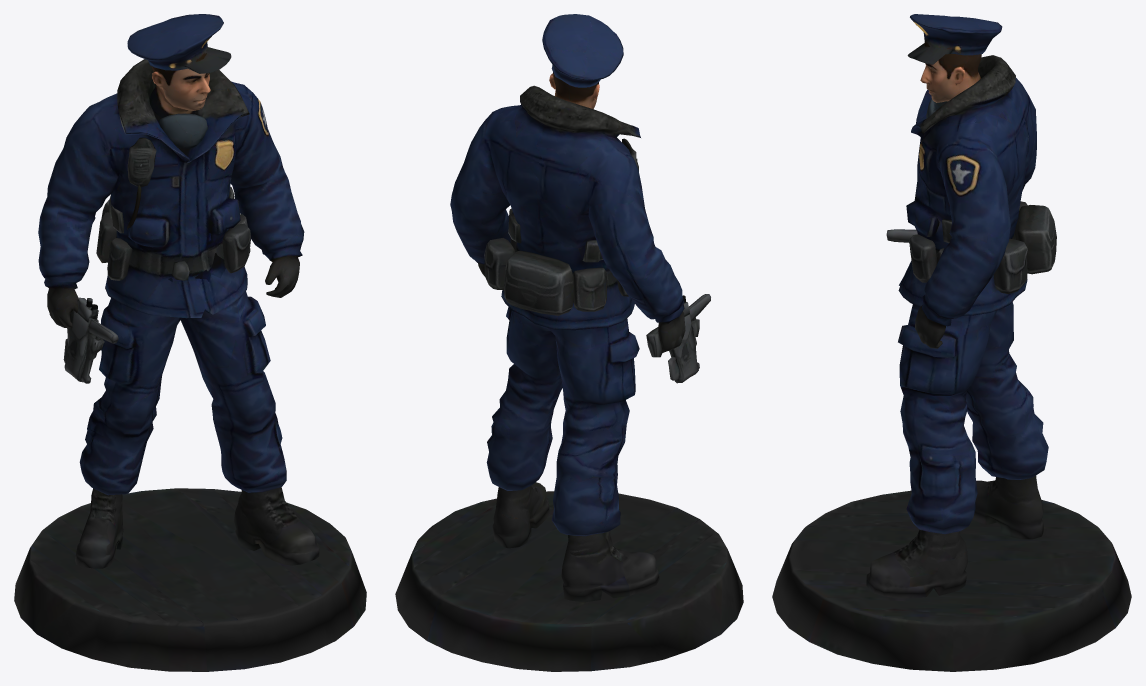
The model's file is tuck.glb.
3 renders of one model, left to right at view 1: azimuth 30°, elevation 25°; view 2: azimuth 150°, elevation 25°; view 3: azimuth 270°, elevation 25°, orthographic. The views are drawn at different scales.
Visible parts, largest first — view 1: geometry_0; view 2: geometry_0; view 3: geometry_0.
Part boxes in pixels (x1,y1,x2,y2): geometry_0: (14, 14, 366, 671); geometry_0: (395, 14, 743, 671); geometry_0: (772, 14, 1131, 671).
Bounding box in the file's own units: 0.5551 × 1 × 0.5613.
Materials: 1 (1 with a texture image).
